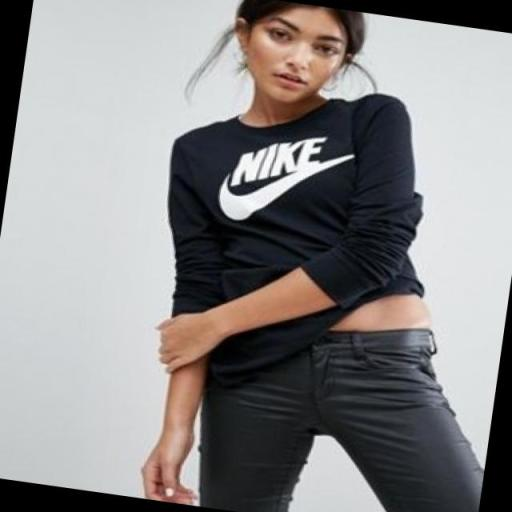Nike: (214, 156, 336, 234), (231, 125, 328, 199)
